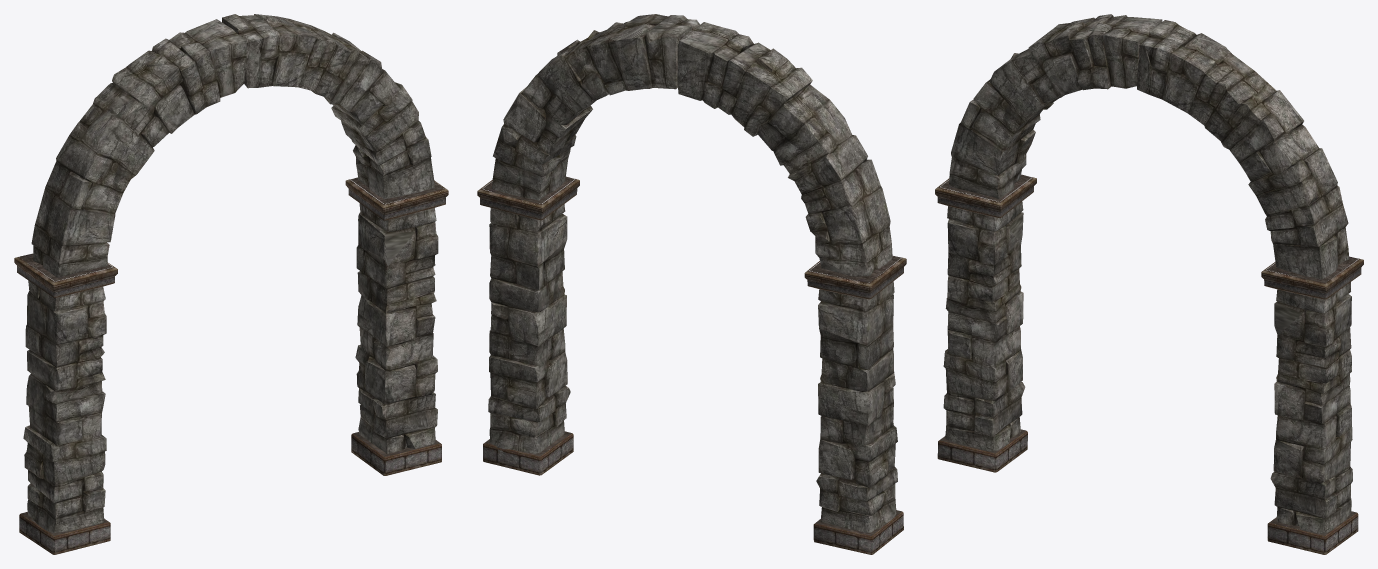
Rendered from O_mdl_env_propSculptPillarStackedArchA_LOD0-transformed.glb.
3 views of the same model, side by side, from view 1: azimuth 30°, elevation 25°; view 2: azimuth 150°, elevation 25°; view 3: azimuth 330°, elevation 25° (orthographic).
Visible parts, largest first — view 1: default; view 2: default; view 3: default.
Boxes of the visible parts, x1,y1,x2,y2 form: default: (14, 14, 448, 554); default: (477, 14, 906, 554); default: (935, 14, 1363, 554).
Size of the model in its own units: 8.75 by 9.93 by 1.54.
Materials: 2 (2 with a texture image).
